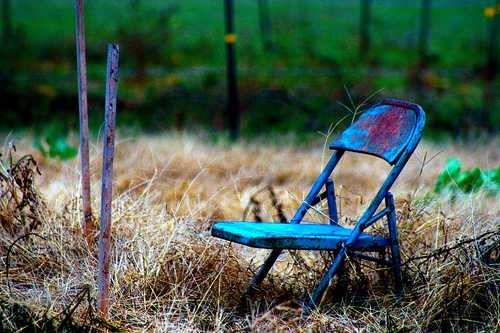obstacle: (211, 99, 425, 311)
